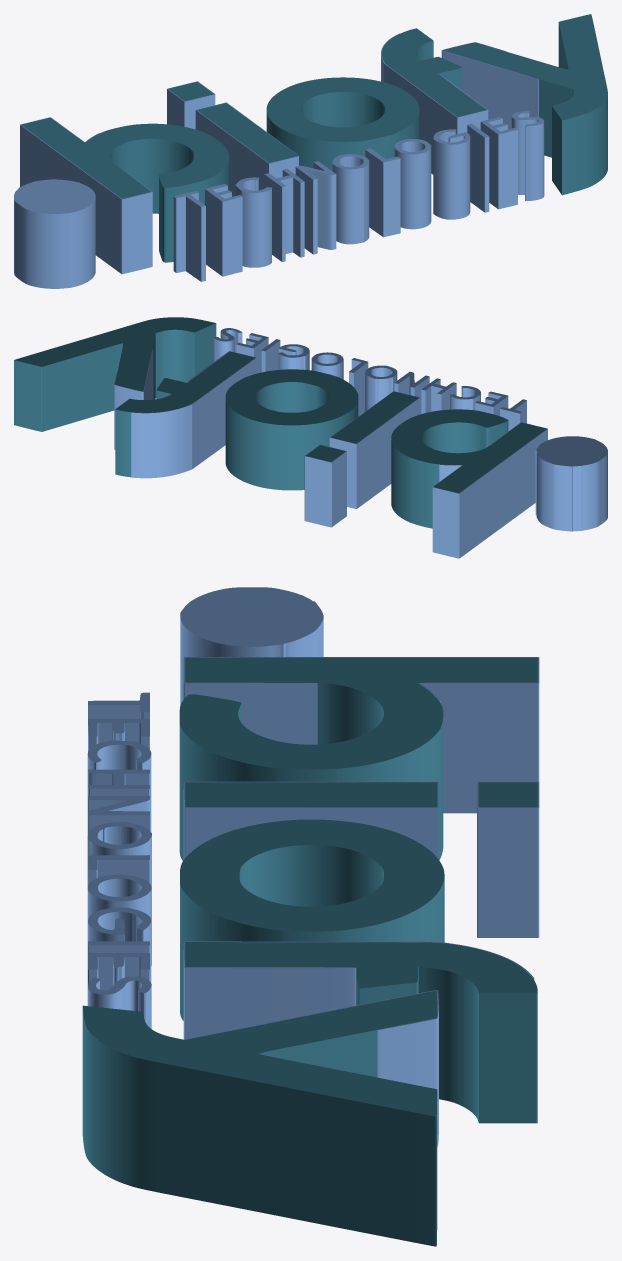
Rendered from asset.gltf.
3 views of the same model, one above another, from view 1: azimuth 30°, elevation 25°; view 2: azimuth 150°, elevation 25°; view 3: azimuth 270°, elevation 25° (orthographic). The views are drawn at different scales.
Visible parts, largest first — view 1: Node2, Node3, Node1, Node7, Node20, Node4, Node24, Node12, Node15, Node10, Node11, Node13 (+12 smaller); view 2: Node3, Node1, Node2, Node20, Node18, Node7, Node4, Node8, Node9, Node5, Node10, Node14 (+12 smaller); view 3: Node3, Node2, Node1, Node4, Node20, Node18, Node7, Node9, Node8, Node5, Node24, Node11 (+11 smaller).
Part boxes in pixels (box(x1,y1,x2,y2)): Node2: box(21, 117, 229, 262); Node3: box(443, 14, 607, 195); Node1: box(266, 77, 419, 170); Node7: box(14, 179, 95, 288); Node20: box(20, 117, 152, 274); Node4: box(382, 28, 486, 116); Node24: box(441, 42, 538, 129); Node12: box(433, 129, 470, 219); Node15: box(205, 184, 242, 276); Node10: box(332, 154, 369, 244); Node11: box(394, 139, 431, 229); Node13: box(295, 161, 336, 254); Node3: box(14, 317, 216, 431); Node1: box(225, 369, 358, 490); Node2: box(391, 409, 546, 528); Node20: box(432, 422, 547, 558); Node18: box(131, 351, 256, 478); Node7: box(535, 436, 607, 531); Node4: box(115, 351, 254, 477); Node8: box(329, 391, 420, 508); Node9: box(304, 444, 346, 527); Node5: box(331, 391, 418, 443); Node10: box(365, 365, 397, 411); Node14: box(421, 378, 456, 413); Node3: box(82, 990, 437, 1246); Node2: box(179, 657, 537, 860); Node1: box(180, 819, 444, 1020); Node4: box(185, 942, 537, 1123); Node20: box(183, 657, 539, 813); Node18: box(183, 941, 534, 1039); Node7: box(180, 587, 323, 704); Node9: box(477, 781, 539, 937); Node8: box(183, 781, 438, 859); Node5: box(185, 782, 437, 807); Node24: box(249, 990, 438, 1147); Node11: box(87, 874, 151, 1005).
Size of the model in its own units: 87.27 by 10 by 31.81.
